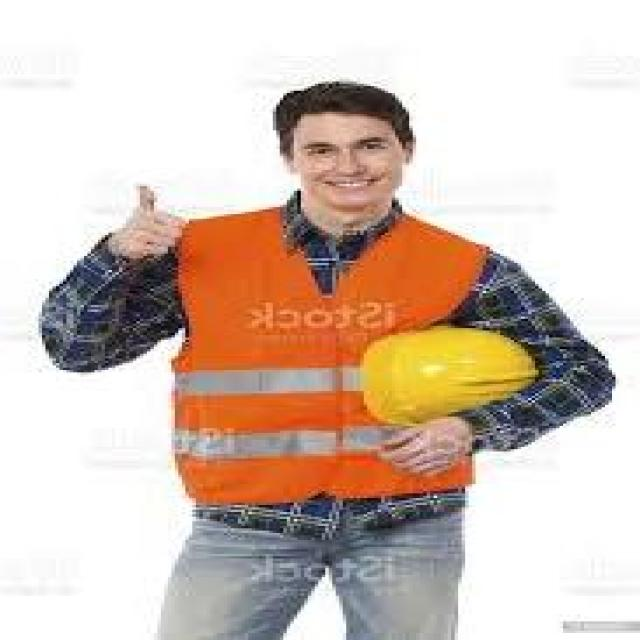Reflective-Jacket: (133, 205, 500, 521)
Safety-Helmet: (346, 321, 549, 435)
